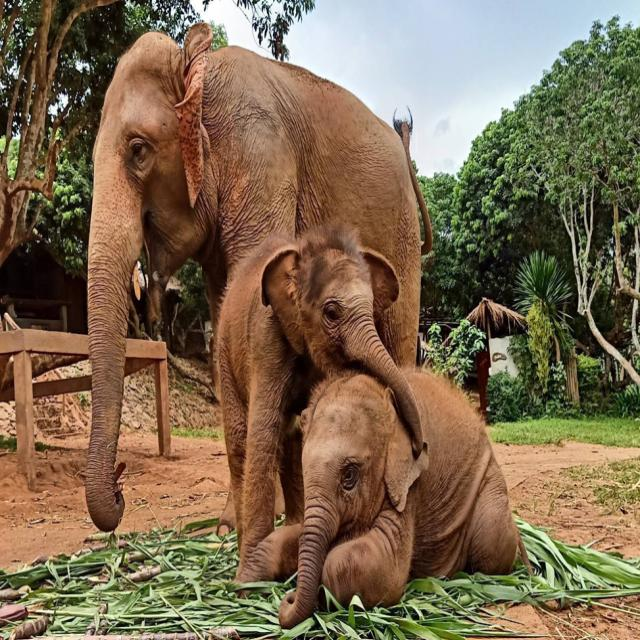Elephant: (57, 12, 427, 535), (211, 198, 539, 640)
